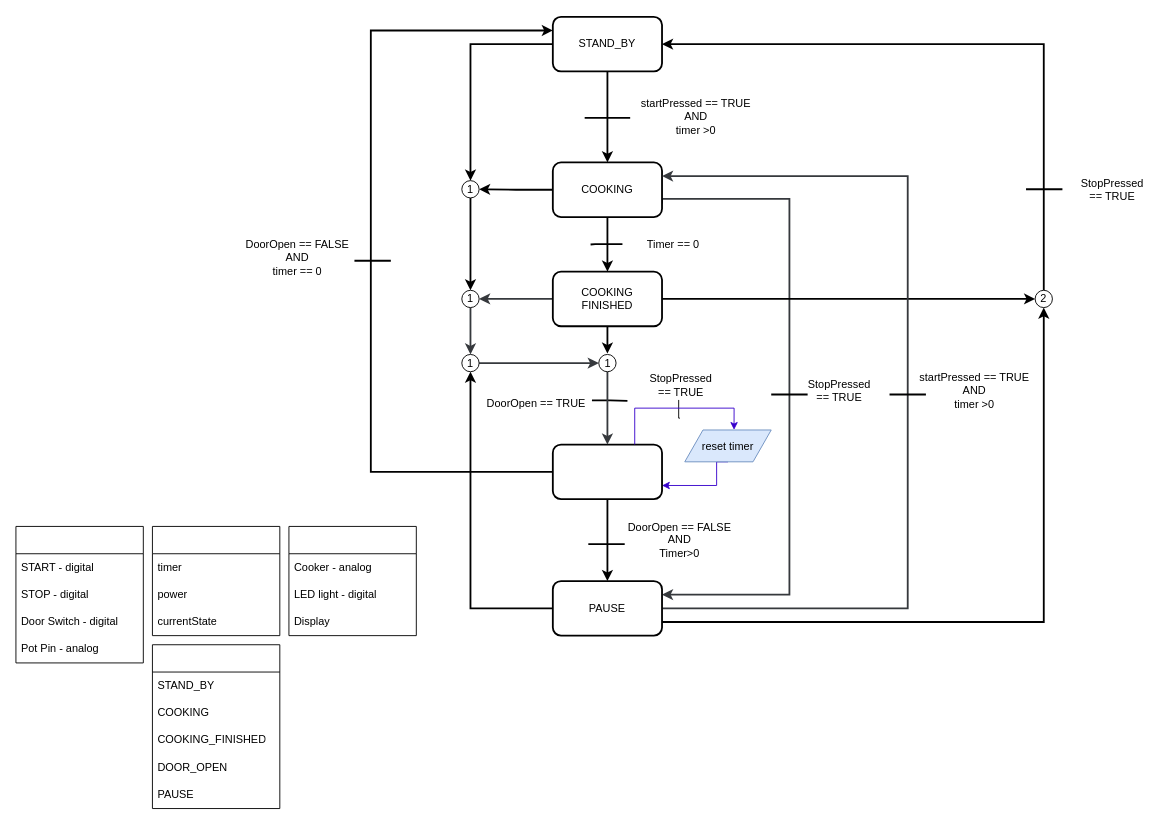
Image size: 1160x824. Some labels were removed from this diagram. Each missing label, with the box of its shape:
DOOR OPENED: (551, 443, 662, 500)
INPUTS: (15, 526, 143, 663)
Microwave States: (152, 644, 280, 809)
OUTPUTS: (288, 526, 416, 636)
VARIABLES: (152, 526, 280, 636)
